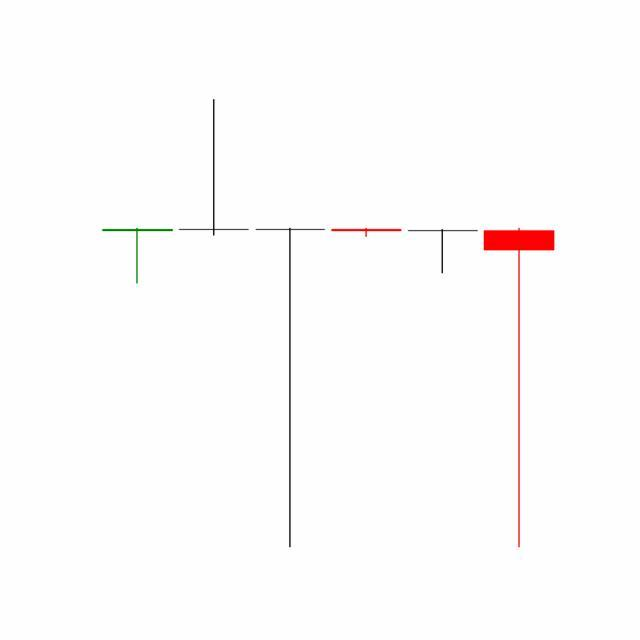Dragonfly Doji: (404, 228, 482, 275)
